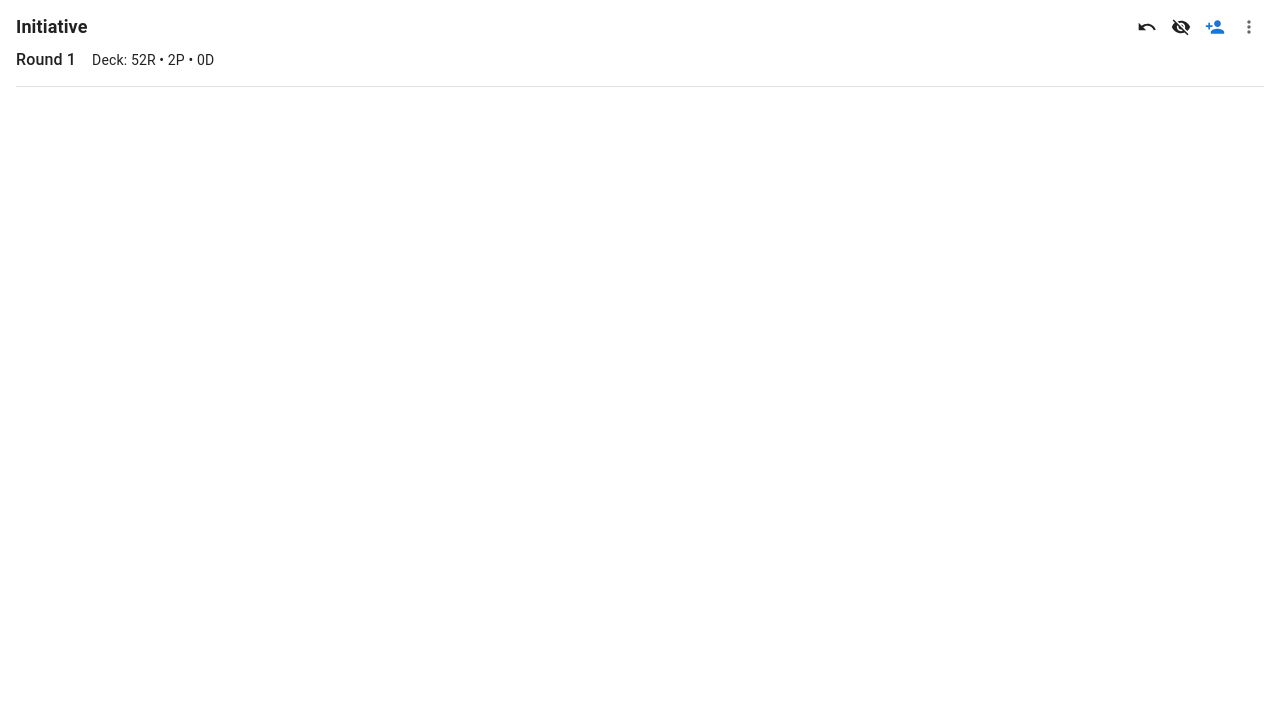
it: HeaderBar Full Reset › Cancel closes the dialog and the menu without changes
Click the button named "More options" at (1249, 27), box [1234, 12, 1264, 42]
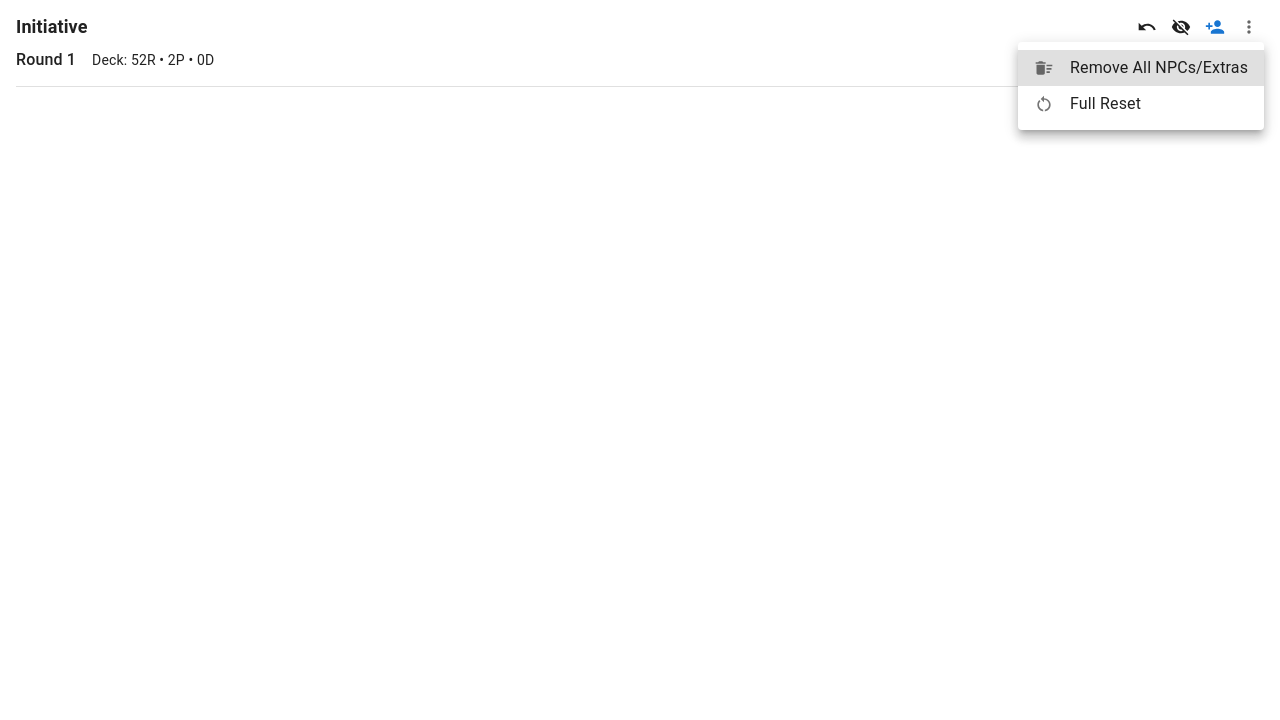
Click the menu item "Full Reset" at (1088, 104), box [1034, 94, 1141, 114]
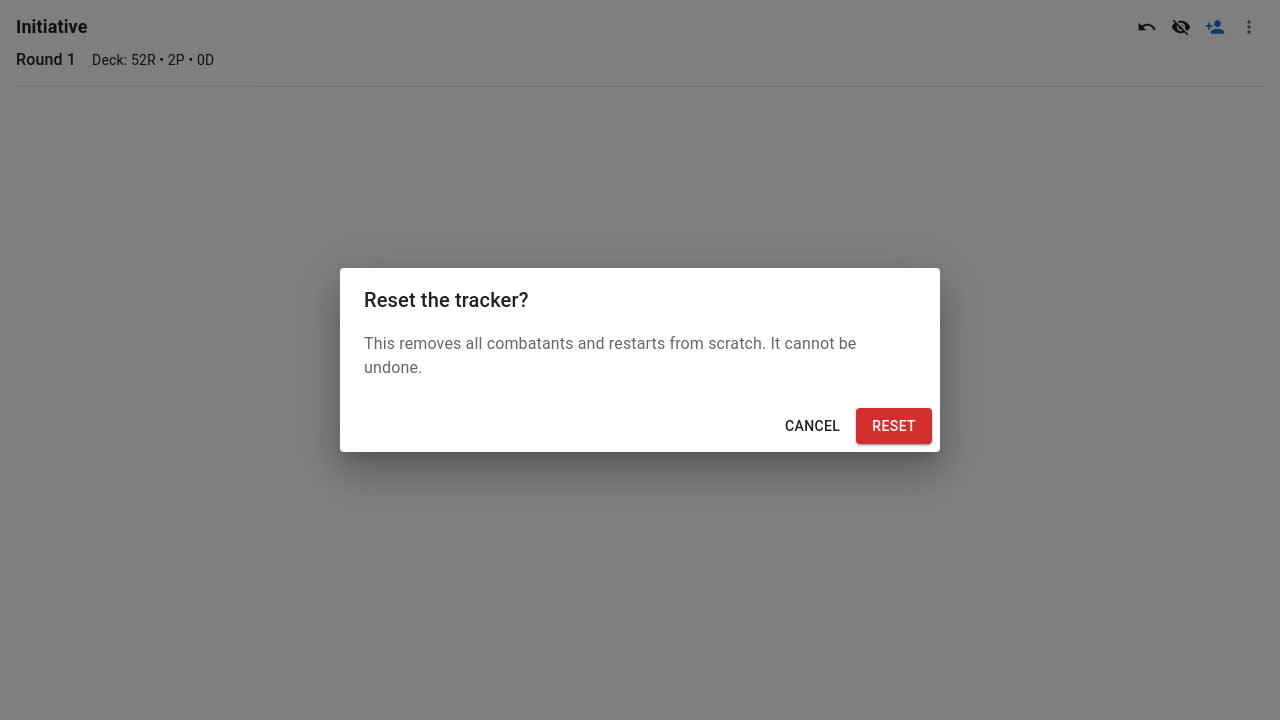
Expected: the menu is gone
Click the button "Cancel" at (813, 426), box [777, 408, 848, 444]
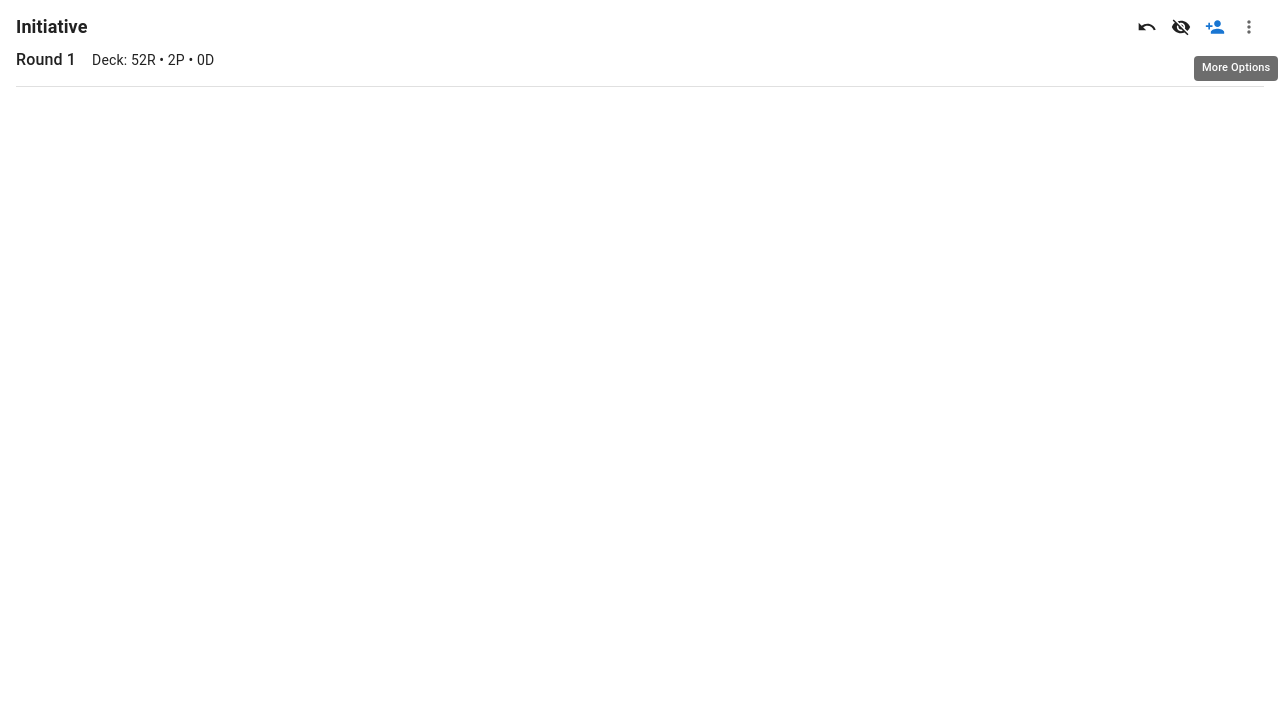
Expected: the dialog is gone
